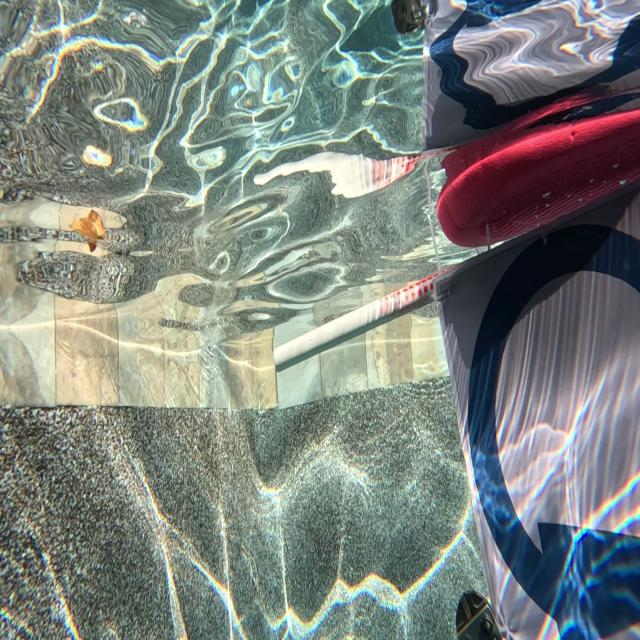blue_side: (468, 236, 640, 640)
